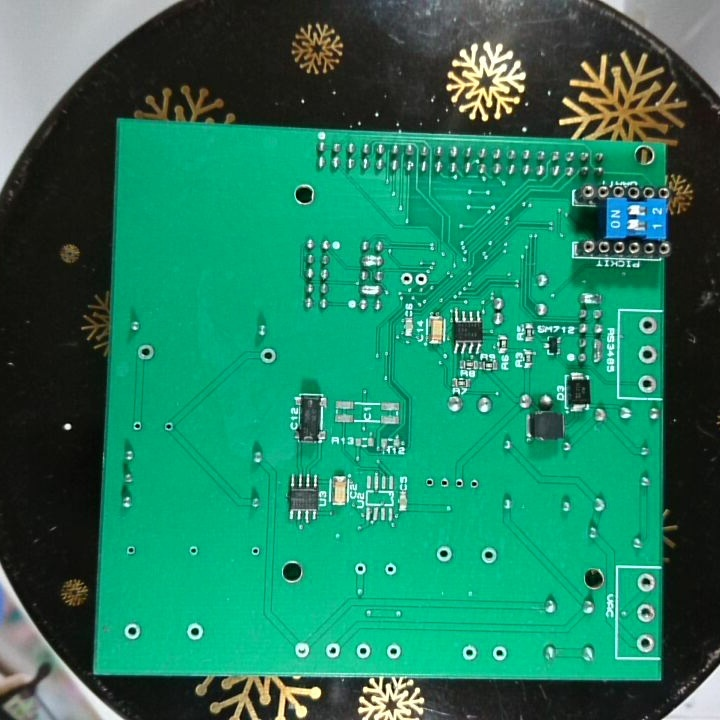F: (183, 620, 207, 644), (634, 600, 657, 625), (634, 633, 657, 656), (134, 341, 157, 364), (634, 571, 656, 595), (636, 342, 657, 367), (258, 343, 278, 369), (120, 620, 142, 642), (636, 315, 657, 338), (479, 545, 500, 567), (384, 640, 404, 663), (637, 372, 656, 395), (291, 639, 310, 662), (352, 640, 372, 661), (434, 543, 454, 564), (460, 643, 479, 665), (324, 639, 342, 662), (490, 643, 508, 663), (414, 269, 430, 291), (381, 558, 398, 578), (465, 475, 482, 494), (397, 269, 414, 288), (351, 560, 368, 578), (421, 474, 436, 492), (248, 543, 264, 559), (129, 418, 145, 434), (161, 418, 177, 434), (123, 542, 137, 560), (437, 475, 451, 493), (186, 542, 199, 560), (451, 476, 465, 492)
P: (577, 289, 605, 307), (357, 281, 385, 298), (590, 336, 605, 366), (359, 252, 384, 269)
